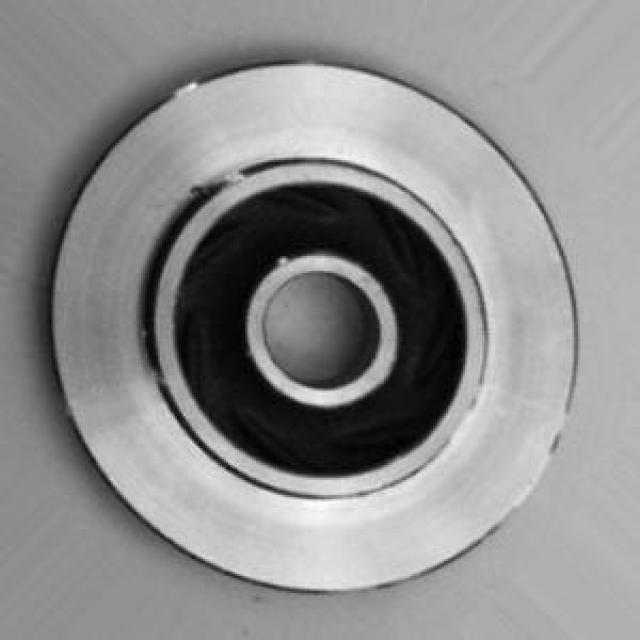Defect: (217, 158, 251, 193)
